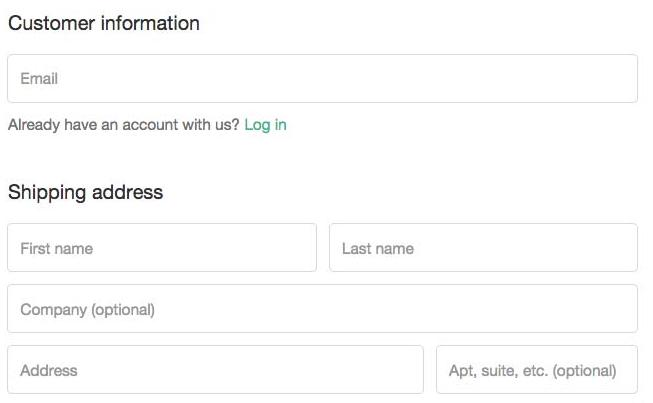field: (6, 52, 641, 103), (6, 283, 640, 333), (5, 345, 426, 395), (329, 221, 637, 274), (7, 221, 316, 273), (434, 344, 638, 395)
